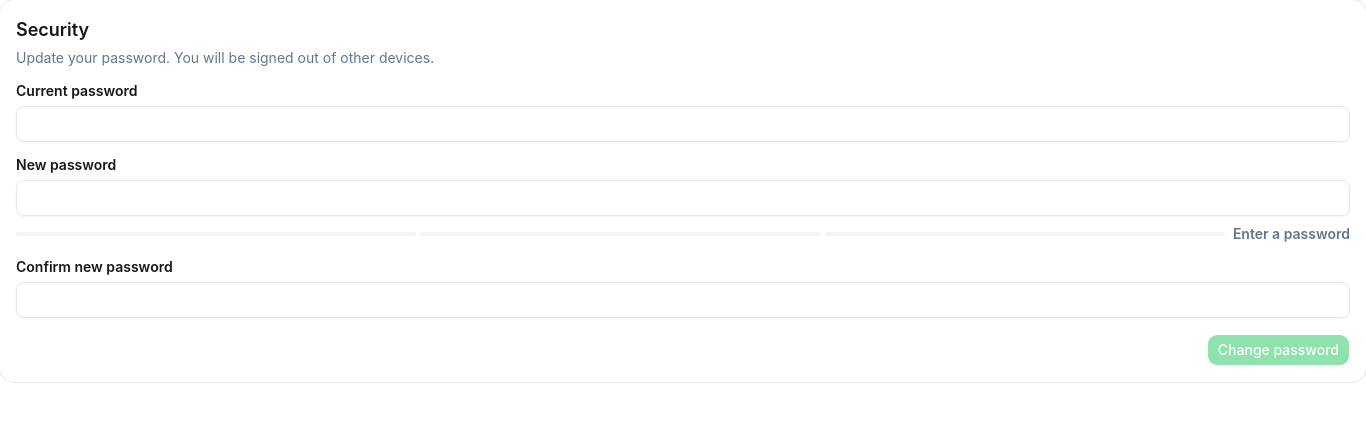
it: AccountSecuritySection › on INVALID_PASSWORD error code, sets inline error on Current password field with copy "Current password is incorrect."
The image size is (1366, 424).
In the password field labelled "Current password": (683,124) [16, 106, 1350, 142], type "oldSecret1"
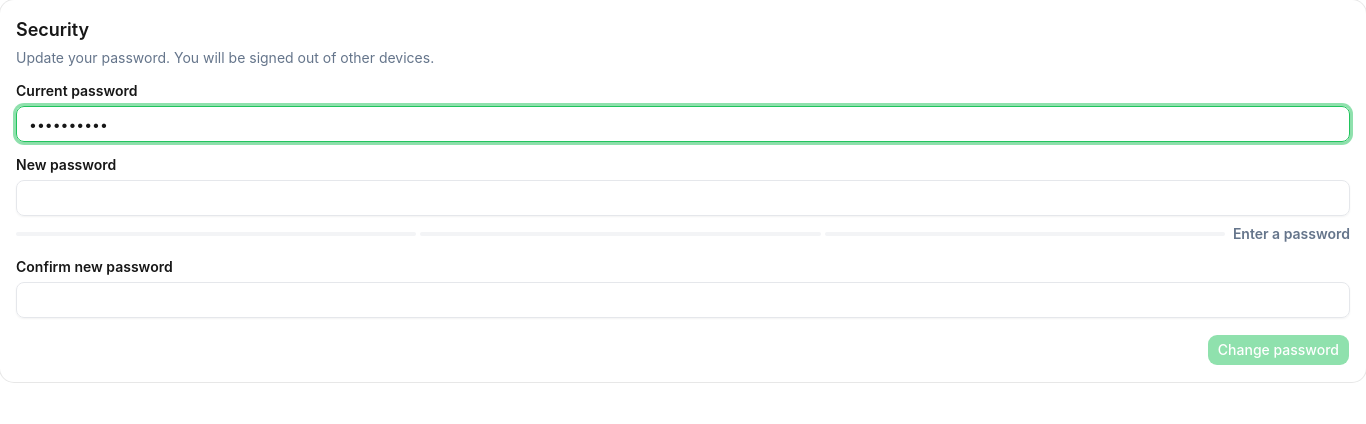
In the password field labelled "New password": (683,198) [16, 180, 1350, 216], type "newSecret99"
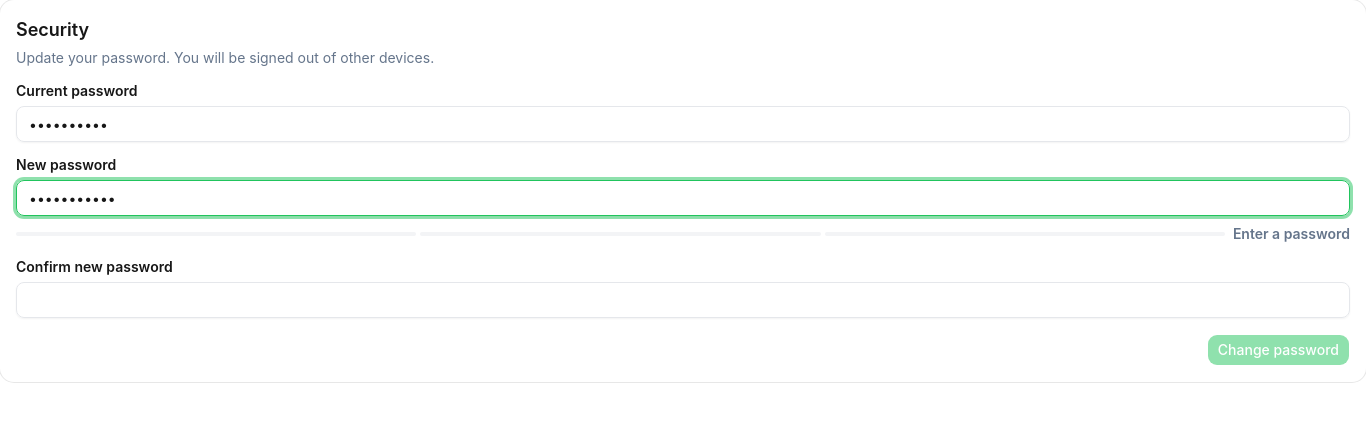
In the password field labelled "Confirm new password": (683,300) [16, 282, 1350, 318], type "newSecret99"
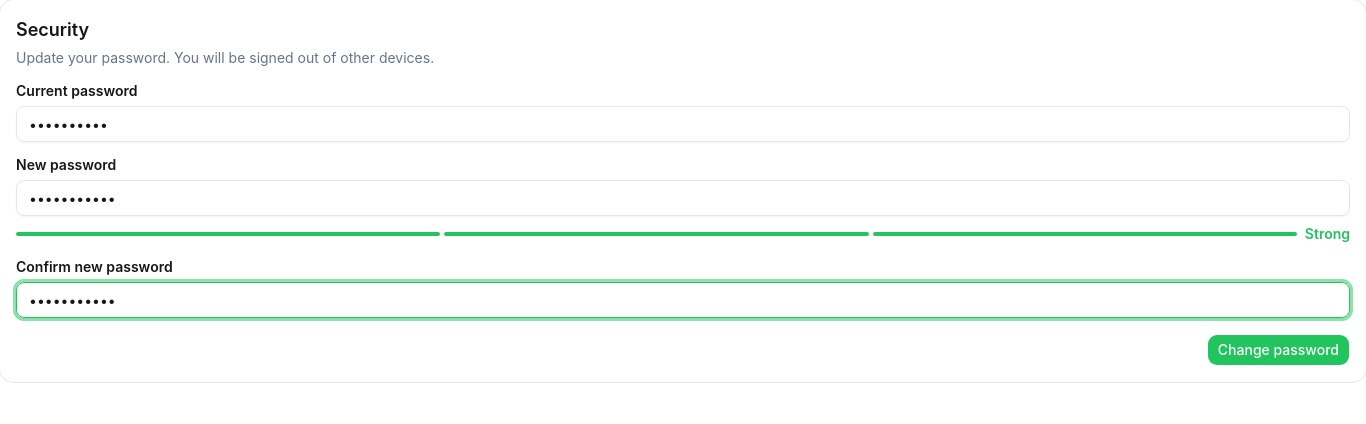
Click the button "Change password": (1278,350) [1207, 334, 1350, 366]
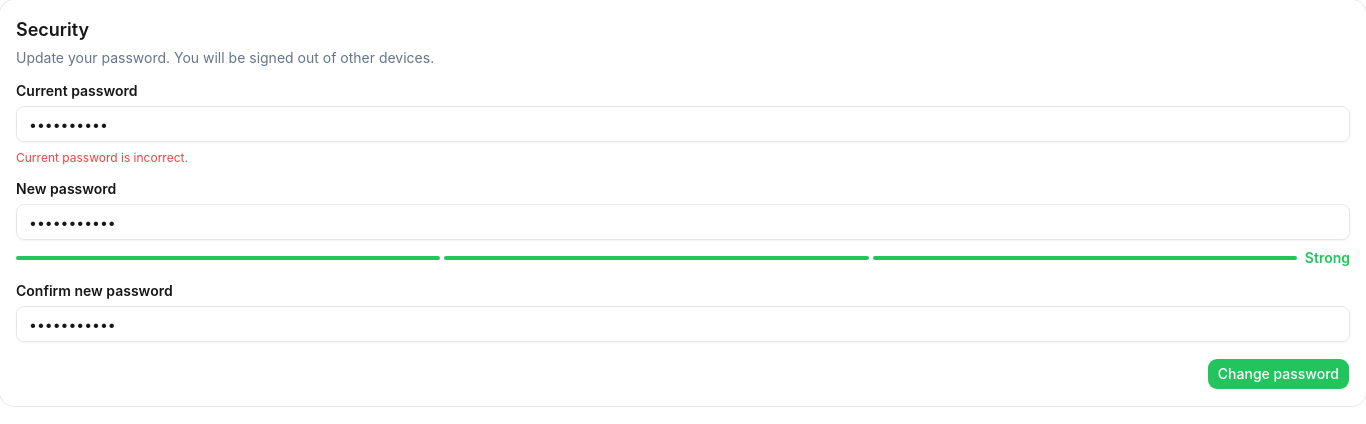
Now the text "Current password is incorrect." is shown, box [16, 150, 188, 165]
